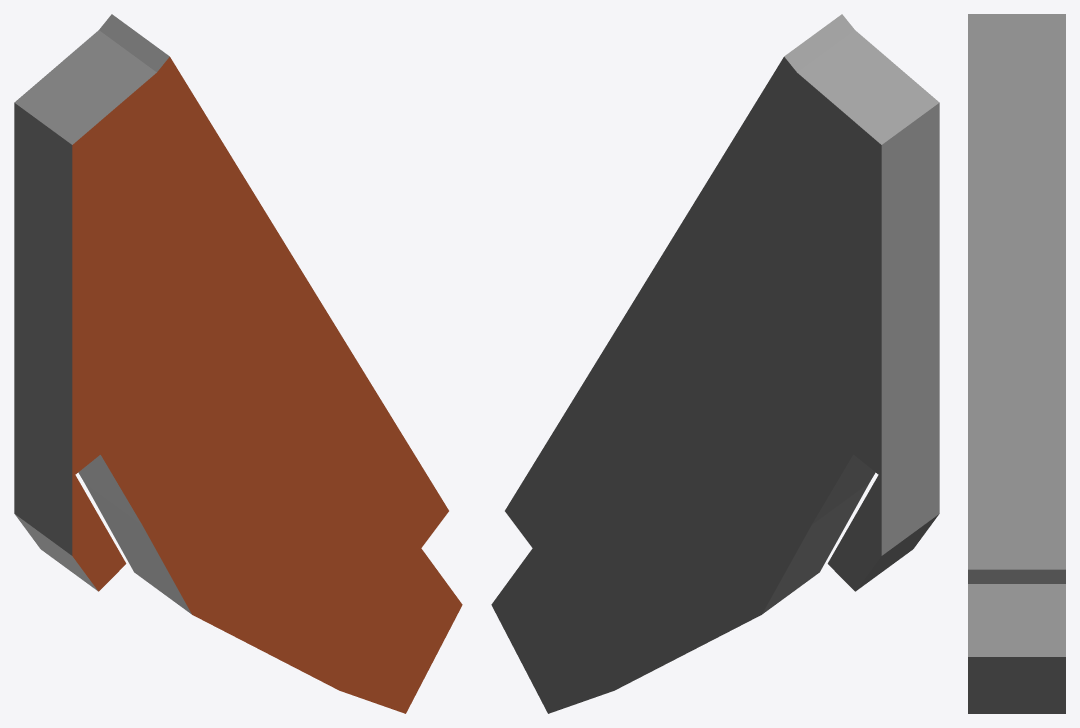
The model's file is construction_3906_assumed_A_Casa_h6m.obj.
3 views of the same model, side by side, from view 1: azimuth 30°, elevation 25°; view 2: azimuth 150°, elevation 25°; view 3: azimuth 270°, elevation 25° (orthographic). The views are drawn at different scales.
Visible parts, largest first — view 1: construction_3906_assumed_A_Casa; view 2: construction_3906_assumed_A_Casa; view 3: construction_3906_assumed_A_Casa.
Part boxes in pixels (x1,y1,x2,y2): construction_3906_assumed_A_Casa: [14, 14, 462, 713]; construction_3906_assumed_A_Casa: [491, 14, 939, 713]; construction_3906_assumed_A_Casa: [968, 14, 1065, 713].
Size of the model in its own units: 23.3 by 40.79 by 6.
